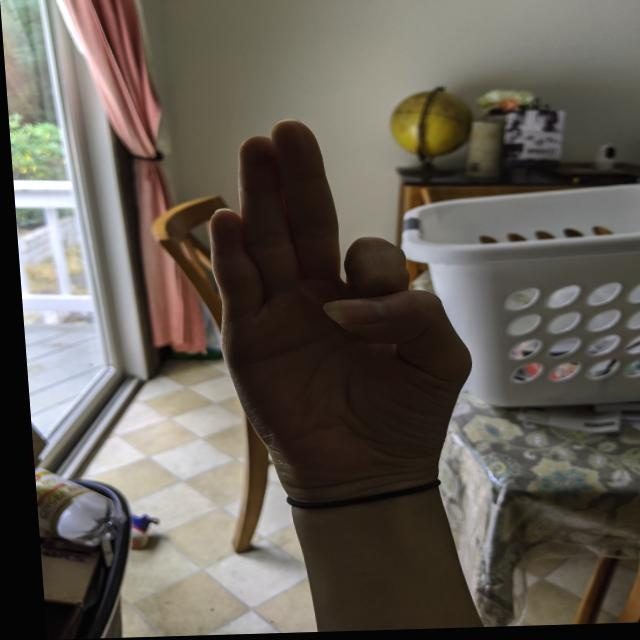F: (187, 114, 480, 509)
